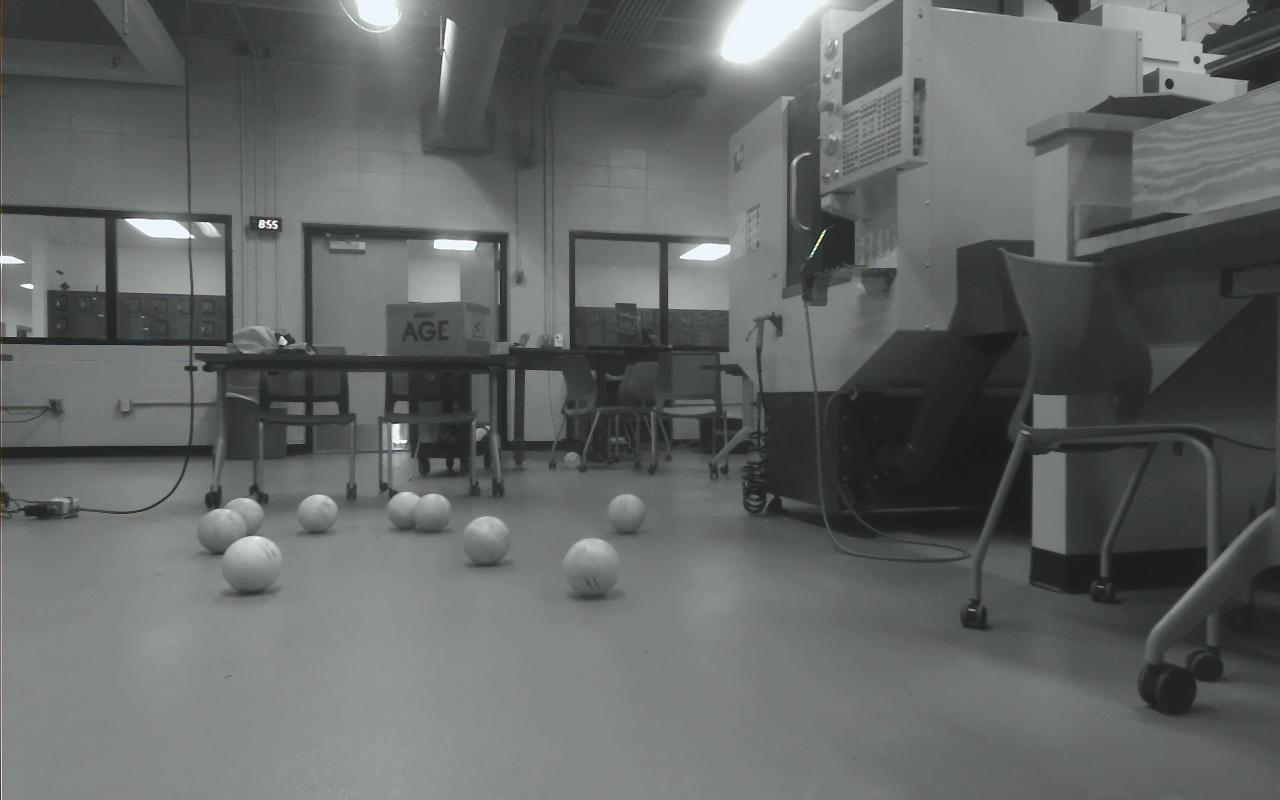Fuel: (223, 535, 283, 594), (562, 538, 620, 598), (463, 515, 511, 565), (197, 508, 246, 555), (297, 494, 339, 534), (412, 493, 452, 533), (607, 494, 646, 534), (223, 497, 264, 535), (387, 491, 421, 530)
